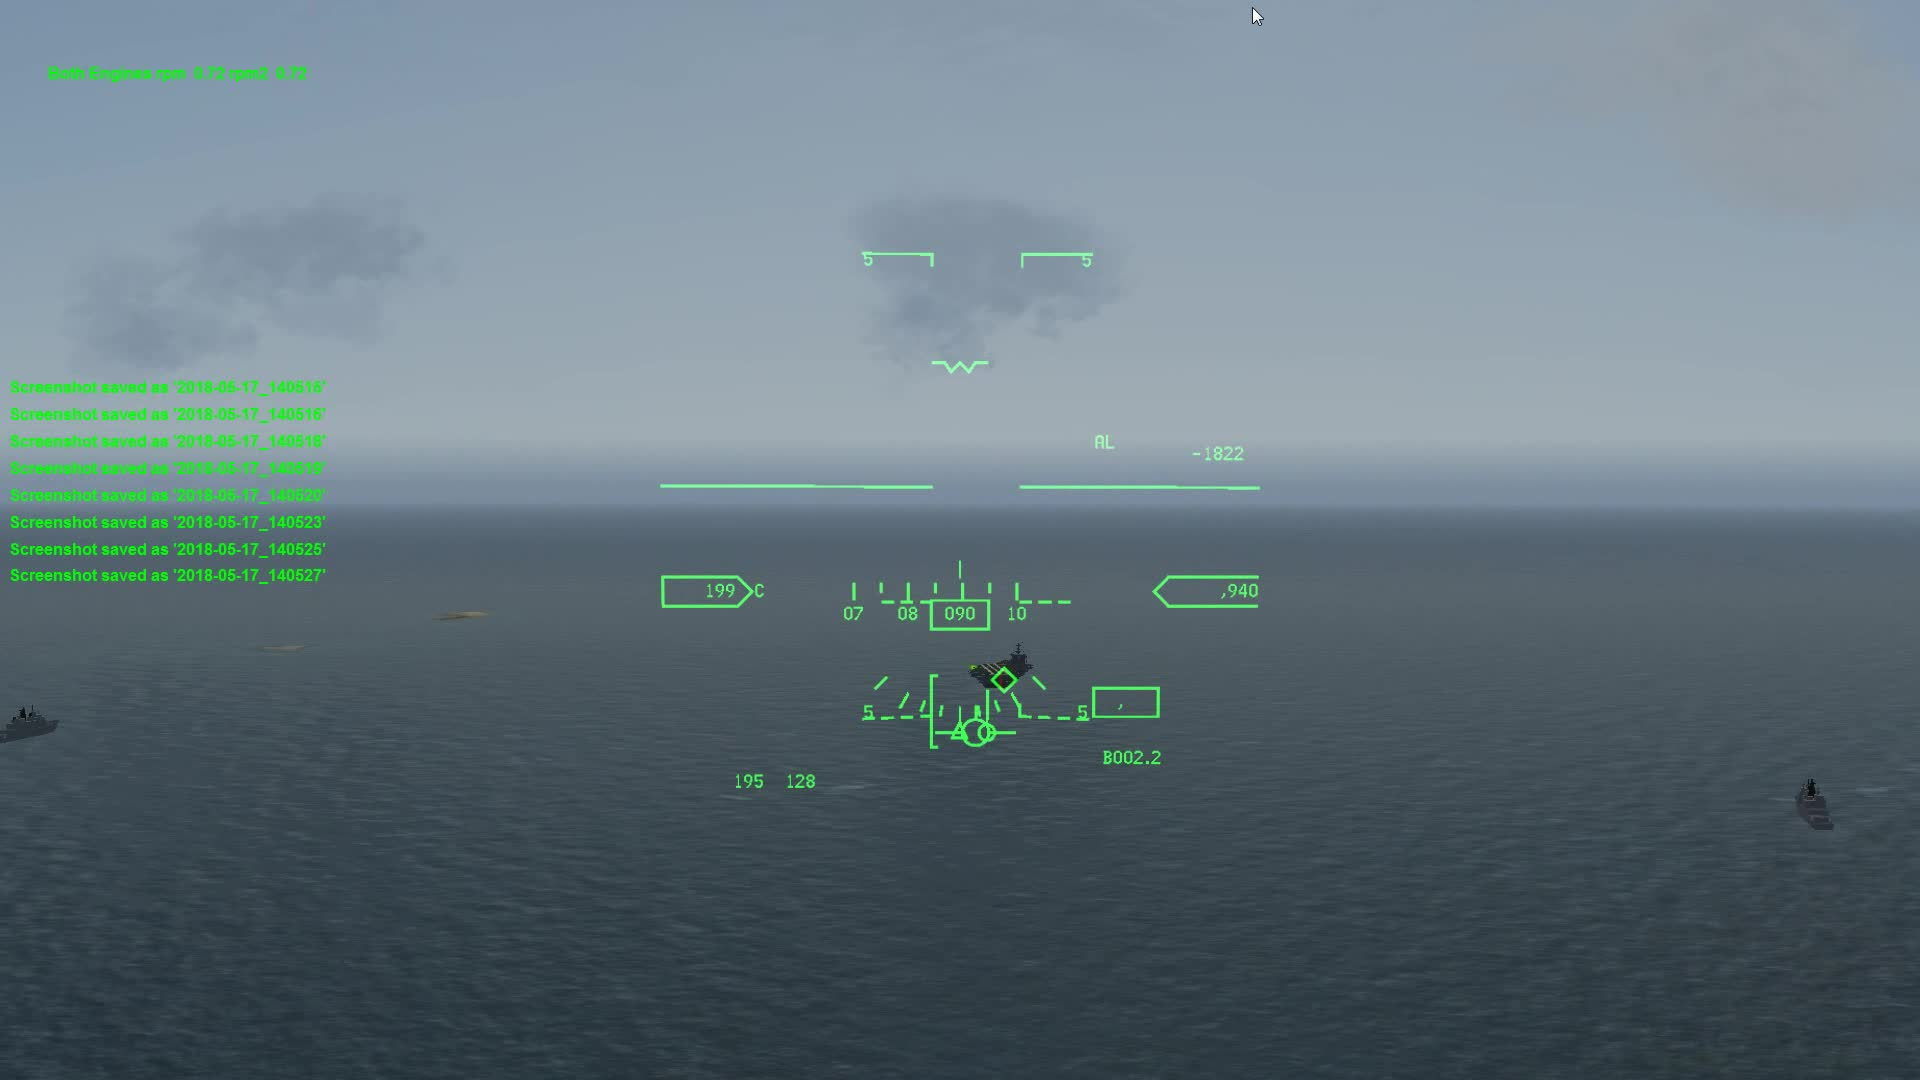speed vector: (935, 711, 1023, 754)
